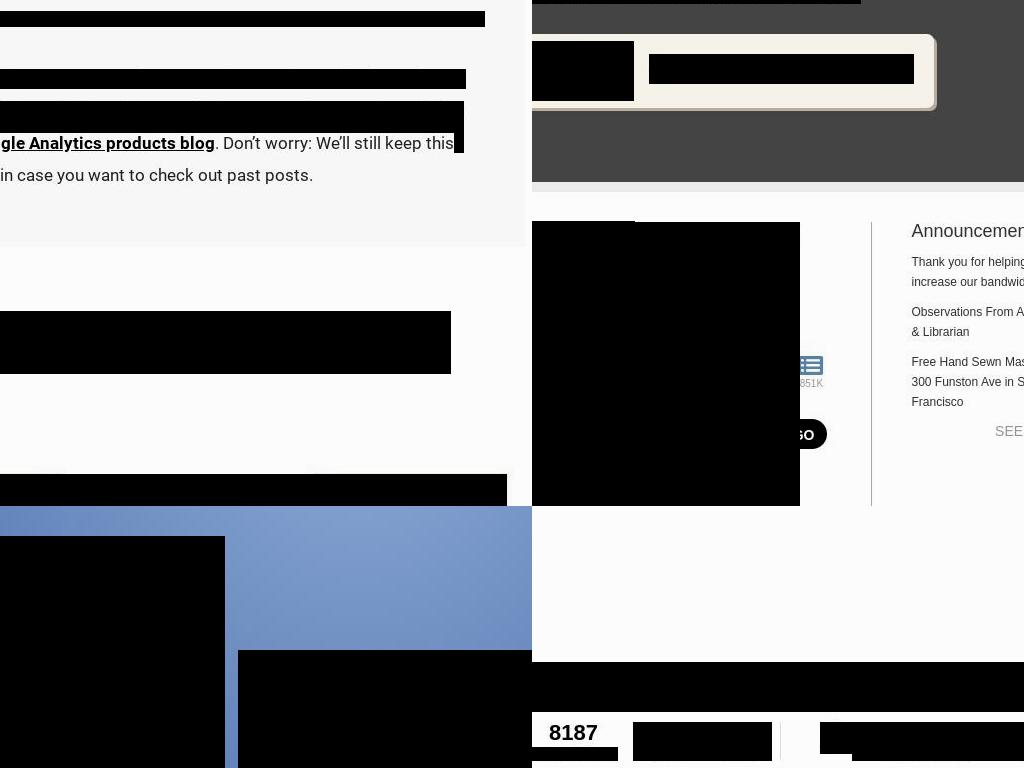button: (532, 41, 634, 101), (852, 722, 997, 761), (532, 722, 634, 761), (633, 722, 703, 761), (702, 722, 772, 761), (655, 456, 767, 476), (780, 419, 827, 449), (701, 343, 743, 373), (572, 343, 609, 373), (615, 343, 652, 373), (658, 343, 695, 373), (750, 343, 787, 373), (793, 343, 830, 373), (996, 722, 1024, 761), (532, 343, 566, 373)
field: (649, 54, 914, 84), (532, 419, 767, 449)
heading: (0, 536, 225, 768), (0, 311, 451, 374), (911, 222, 1024, 241)
iframe: (532, 662, 1024, 712)
image: (238, 650, 532, 768), (0, 474, 507, 506), (532, 41, 594, 101), (820, 722, 853, 754)
link: (911, 355, 1024, 409), (0, 133, 215, 153), (911, 255, 1024, 289), (911, 305, 1024, 339), (852, 722, 997, 744), (0, 101, 155, 121), (532, 722, 634, 744), (633, 722, 703, 744), (702, 722, 772, 744), (996, 722, 1024, 744), (995, 423, 1024, 439), (670, 0, 748, 4)
text: (532, 222, 800, 506), (0, 101, 464, 153), (0, 133, 454, 185), (0, 69, 466, 89), (0, 11, 485, 27), (532, 221, 635, 251), (881, 747, 969, 761), (532, 747, 618, 761), (704, 347, 740, 378), (532, 347, 563, 378), (575, 347, 606, 378), (618, 347, 649, 378), (661, 347, 692, 378), (753, 347, 784, 378), (796, 347, 827, 378), (649, 747, 686, 761), (748, 0, 861, 4), (722, 747, 753, 761), (799, 378, 824, 389), (535, 378, 559, 389), (665, 378, 689, 389), (756, 378, 780, 389), (622, 378, 645, 389), (711, 378, 734, 389), (580, 378, 600, 389)
